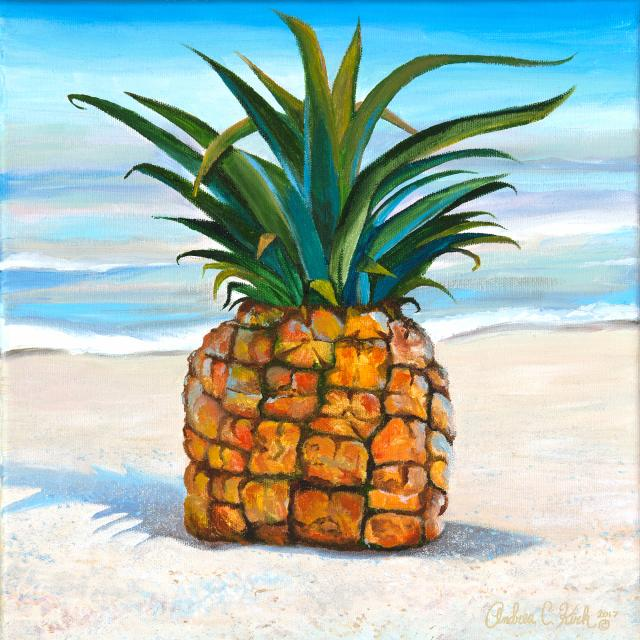pineapple: (172, 212, 479, 556)
